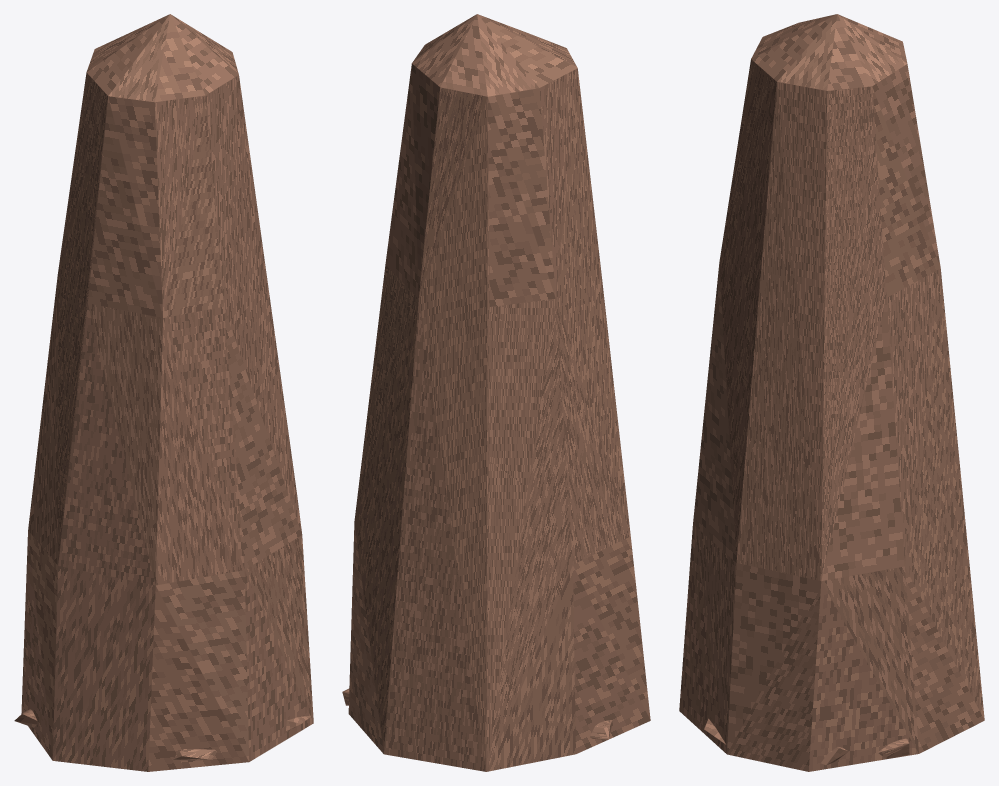
The model's file is f_clay_mound_tall.glb.
3 views of the same model, side by side, from view 1: azimuth 30°, elevation 25°; view 2: azimuth 150°, elevation 25°; view 3: azimuth 270°, elevation 25° (orthographic).
Parts seen in each view (by area): view 1: block_heaped-clay; view 2: block_heaped-clay; view 3: block_heaped-clay.
Boxes of the visible parts, box(x1,y1,x2,y2) form: block_heaped-clay: box(21, 14, 313, 771); block_heaped-clay: box(348, 14, 650, 771); block_heaped-clay: box(679, 14, 984, 771).
Size of the model in its own units: 0.8584 by 2.1 by 0.8345.
1 material, 1 textured.
